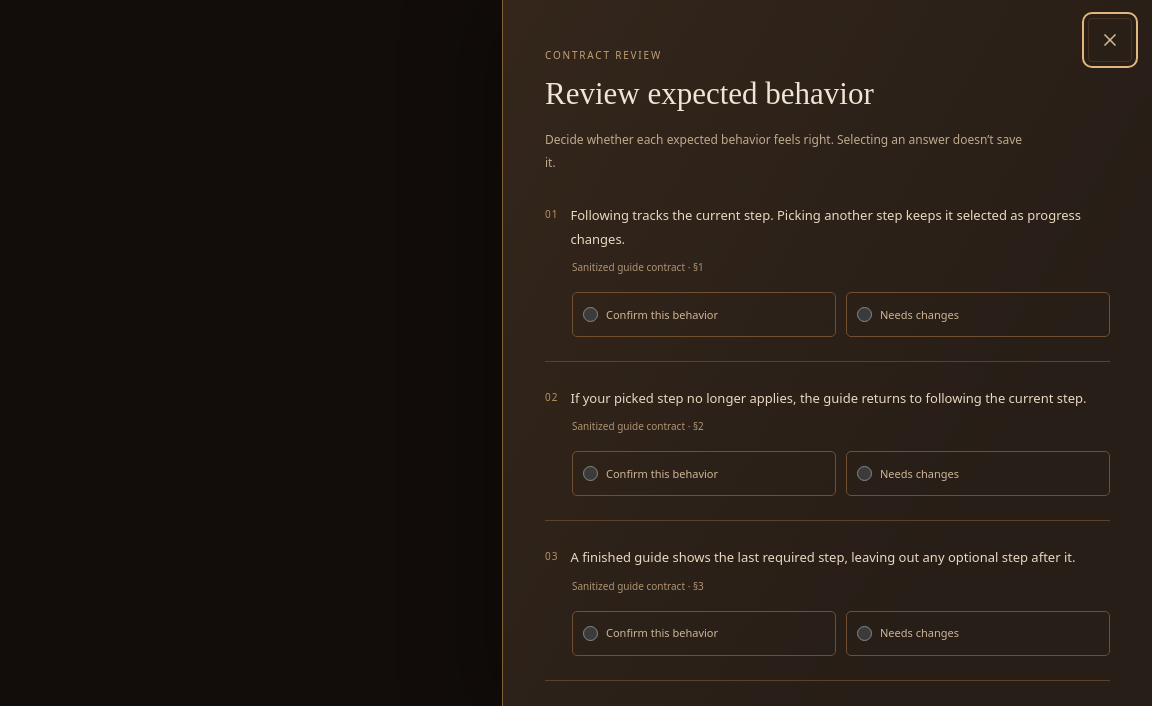
Scenario: review semantics › requires a direct choice for every behavior and selection does not submit
Step 1. Click the radio button labelled "Confirm this behavior" below "Sanitized guide contract · §1" → (590, 315), box x1=583 y1=307 x2=598 y2=322
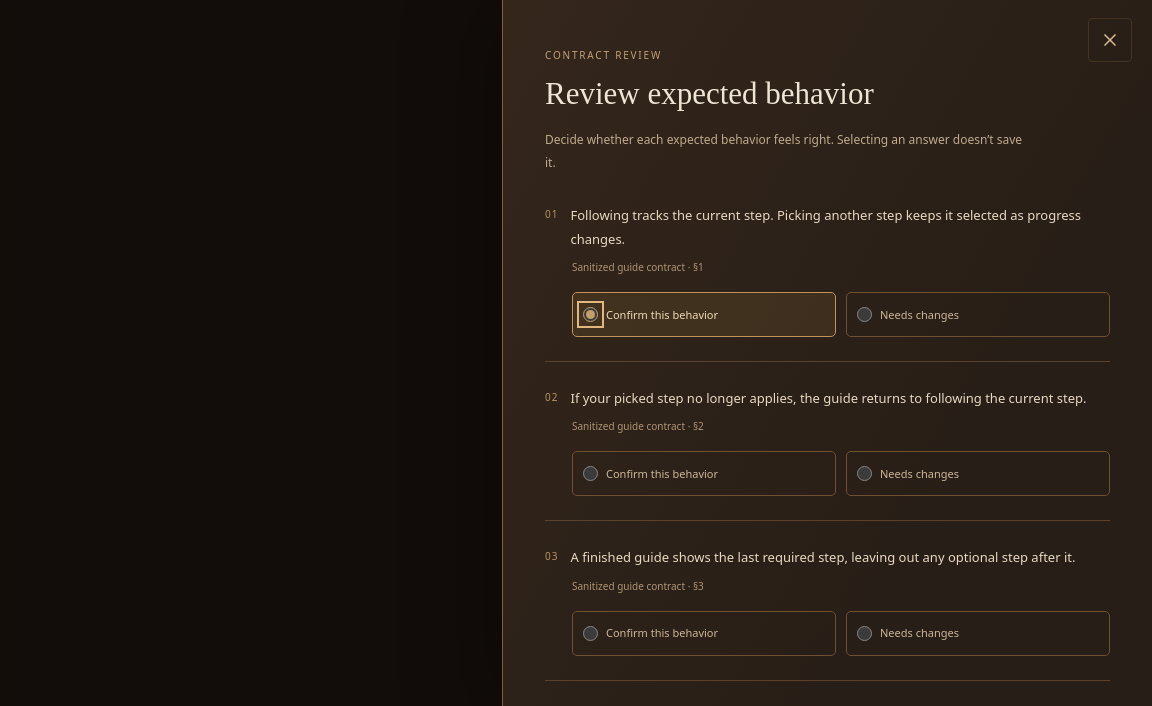
Step 2. Click the radio button labelled "Confirm this behavior" below "Sanitized guide contract · §2" → (590, 474), box x1=583 y1=466 x2=598 y2=482
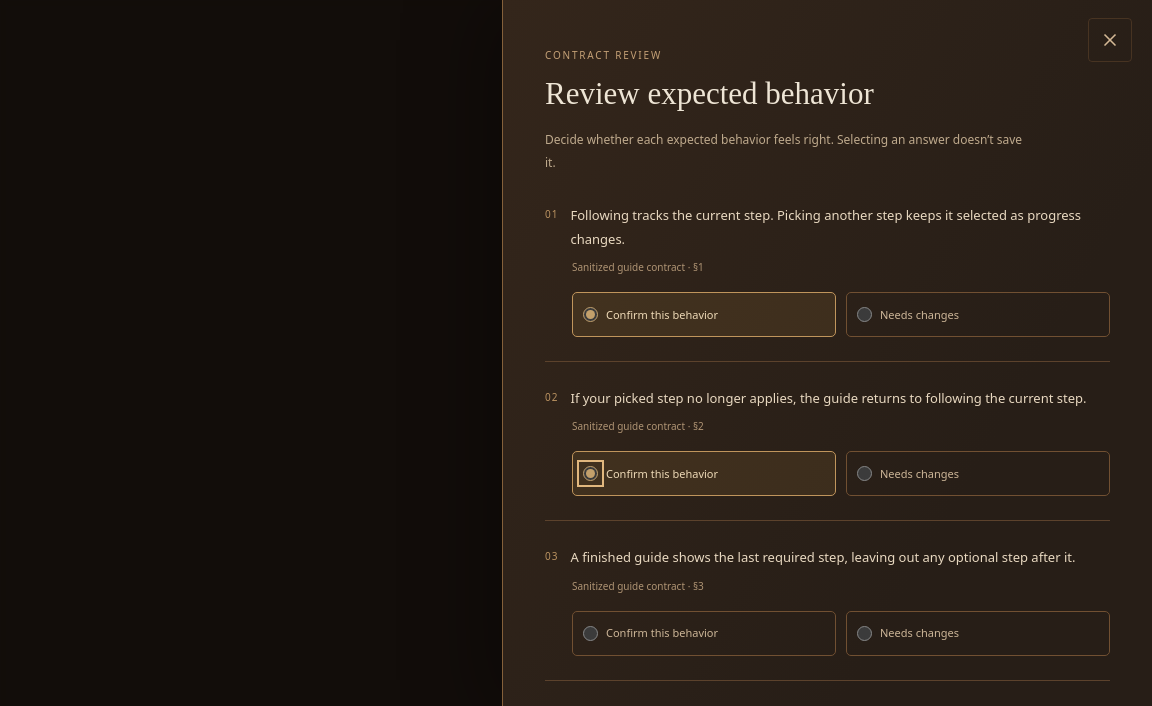
Step 3. Click the radio button labelled "Confirm this behavior" below "Sanitized guide contract · §3" → (590, 633), box x1=583 y1=626 x2=598 y2=640
(page scrolled)
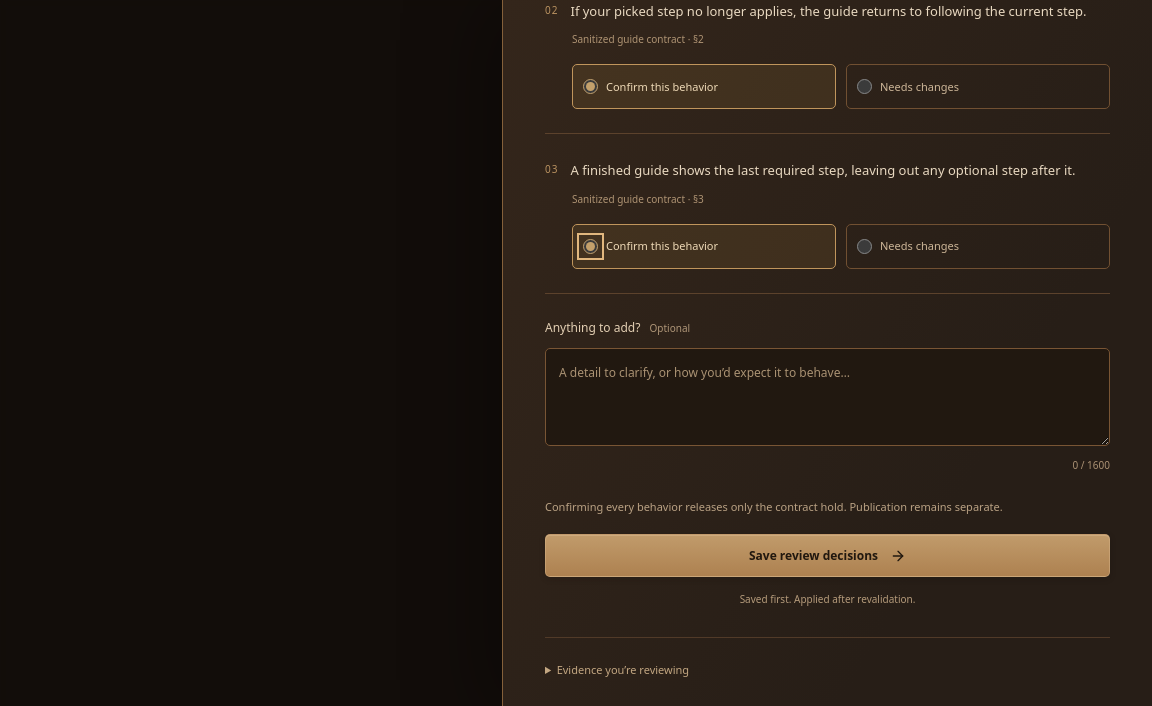
Check: the button "Save review decisions" is enabled, box x1=545 y1=534 x2=1110 y2=577
